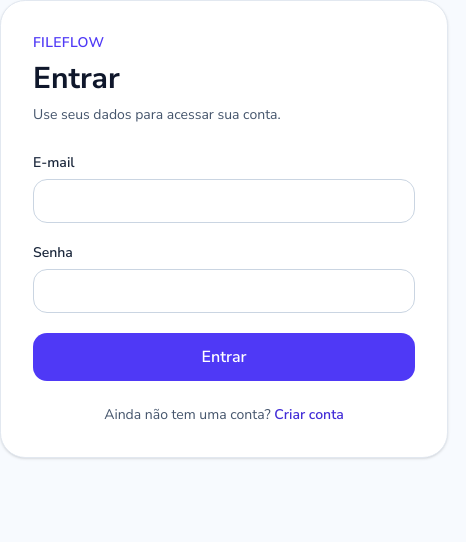
it: AuthForm › mostra erro genérico de login, preserva e-mail e limpa senha
Type "pessoa@example.test" into the field labelled "E-mail".
click(224, 201); type("pessoa@example.test")  # box [33,179,415,223]
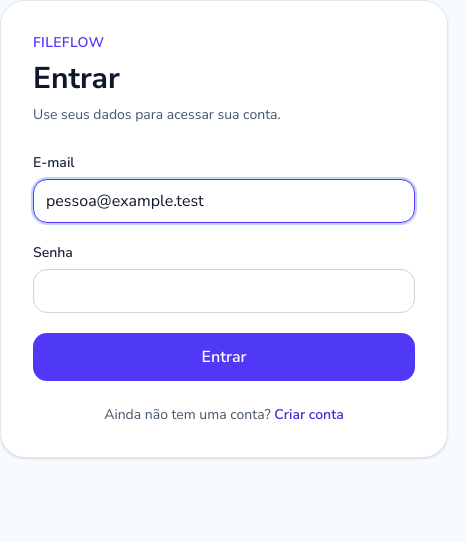
Type "senha-segura" into the password field labelled "Senha".
click(224, 291); type("senha-segura")  # box [33,269,415,313]
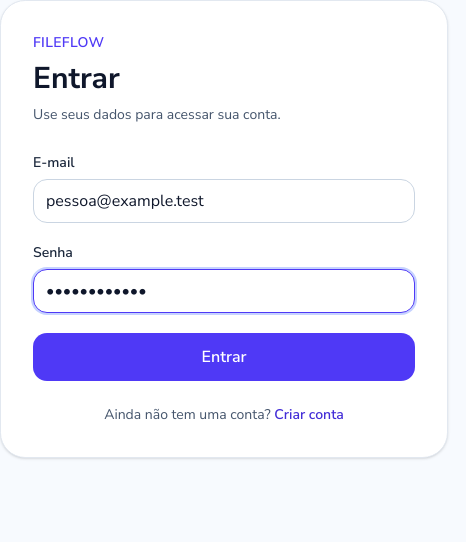
Click the button "Entrar".
click(224, 357)  # box [33,333,415,381]
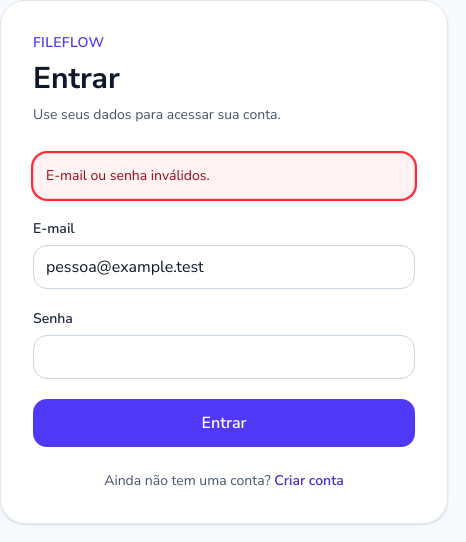
Expected: the text "E-mail ou senha inválidos." is shown, [33,153,415,199]
Expected: the password field labelled "Senha" is empty, [33,335,415,379]
